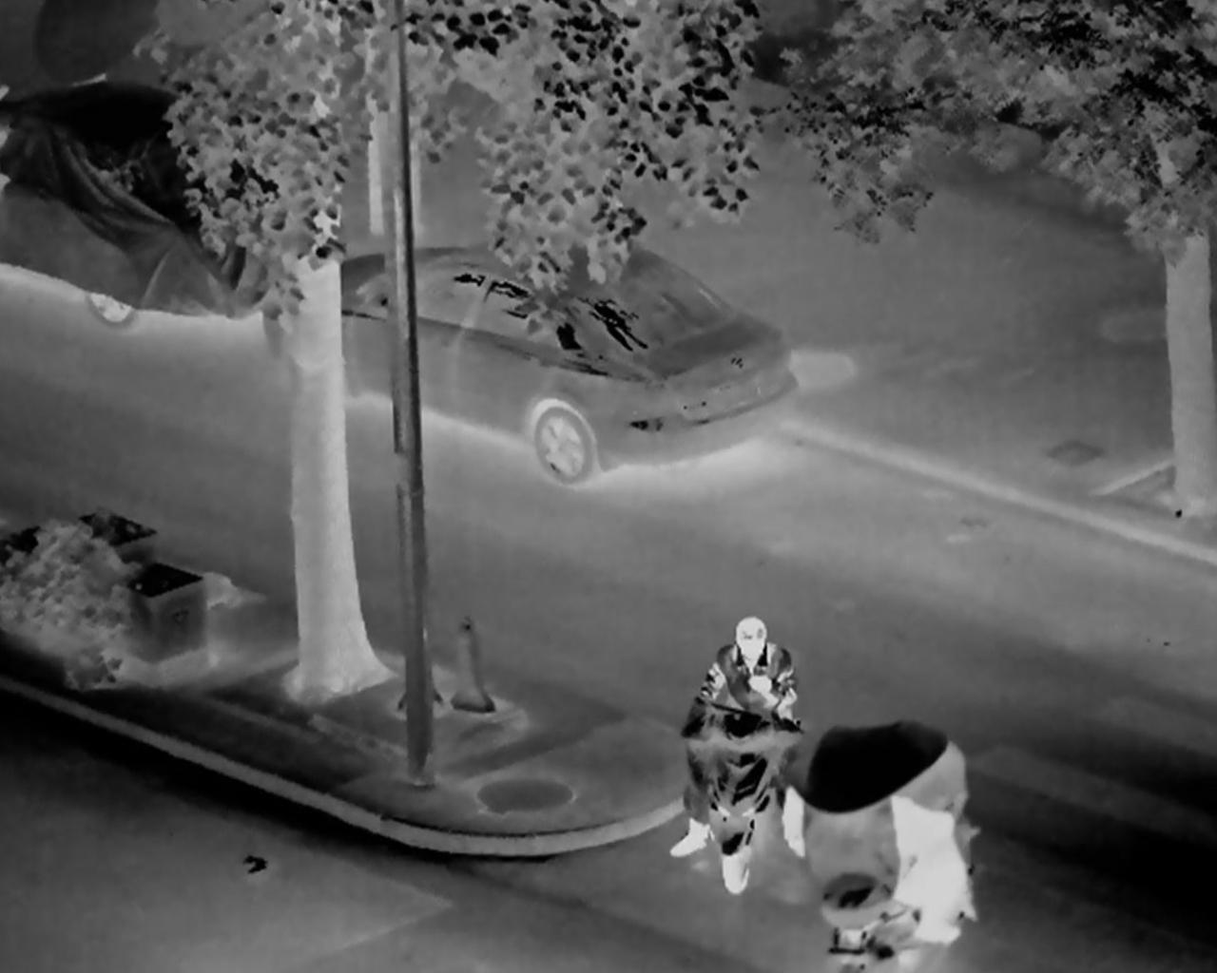person: (672, 619, 813, 876), (884, 800, 973, 944)
